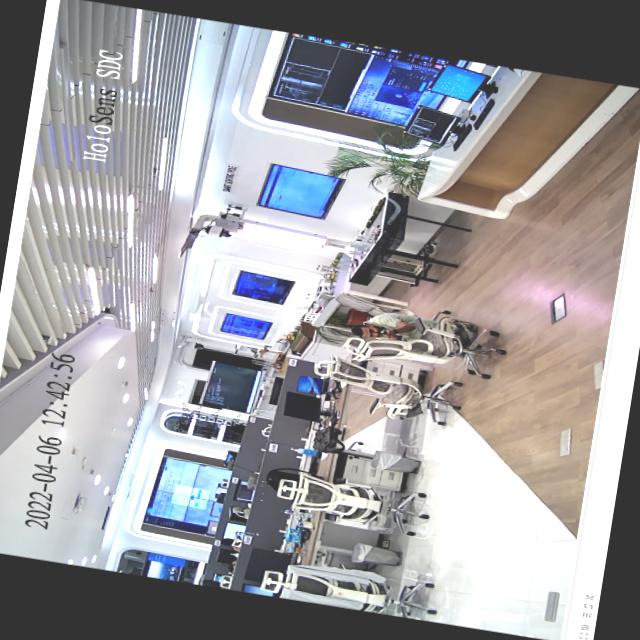long weapon: (372, 328, 397, 339)
